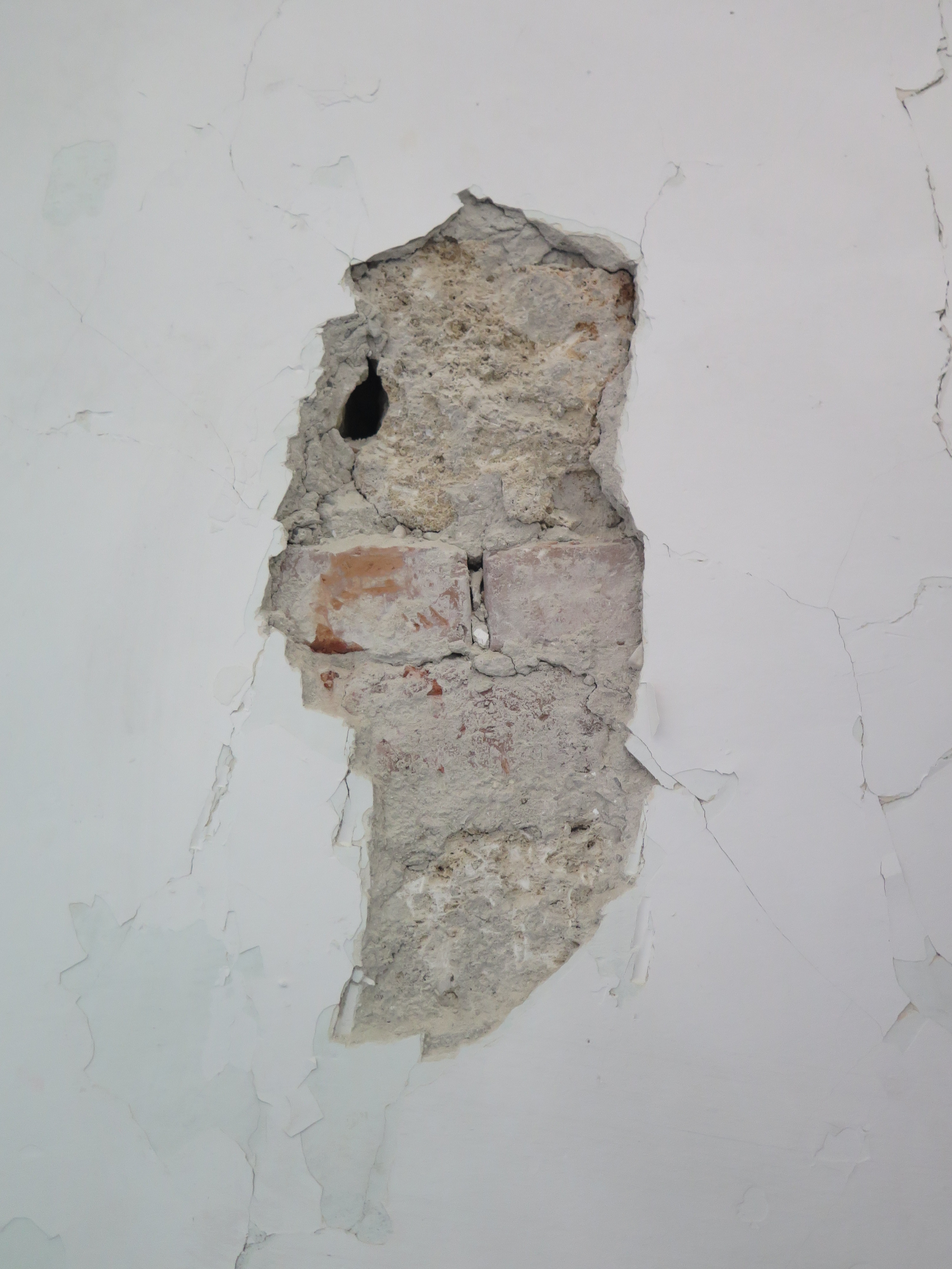Crack: (649, 515, 945, 1071), (210, 6, 388, 284), (154, 602, 298, 895), (283, 425, 479, 543)
Spalling: (233, 167, 669, 1068), (314, 336, 407, 458)
